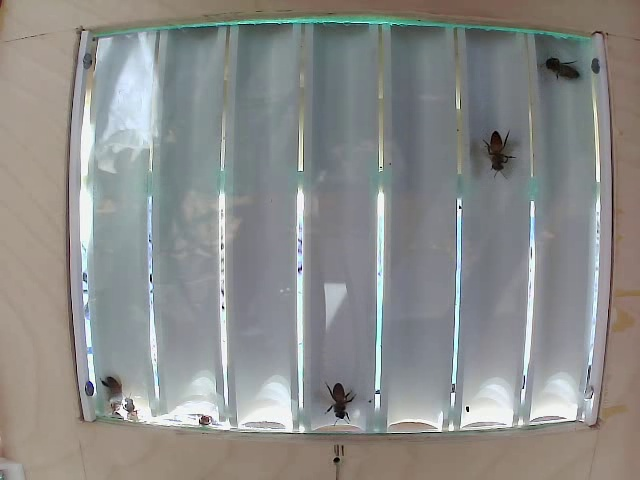bee: (540, 44, 584, 87), (477, 129, 513, 180), (322, 370, 353, 413)
